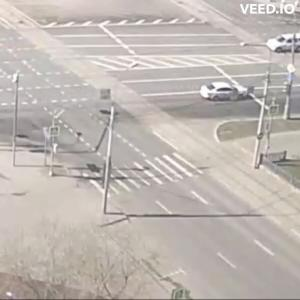car: (201, 80, 247, 103), (268, 36, 300, 55)
